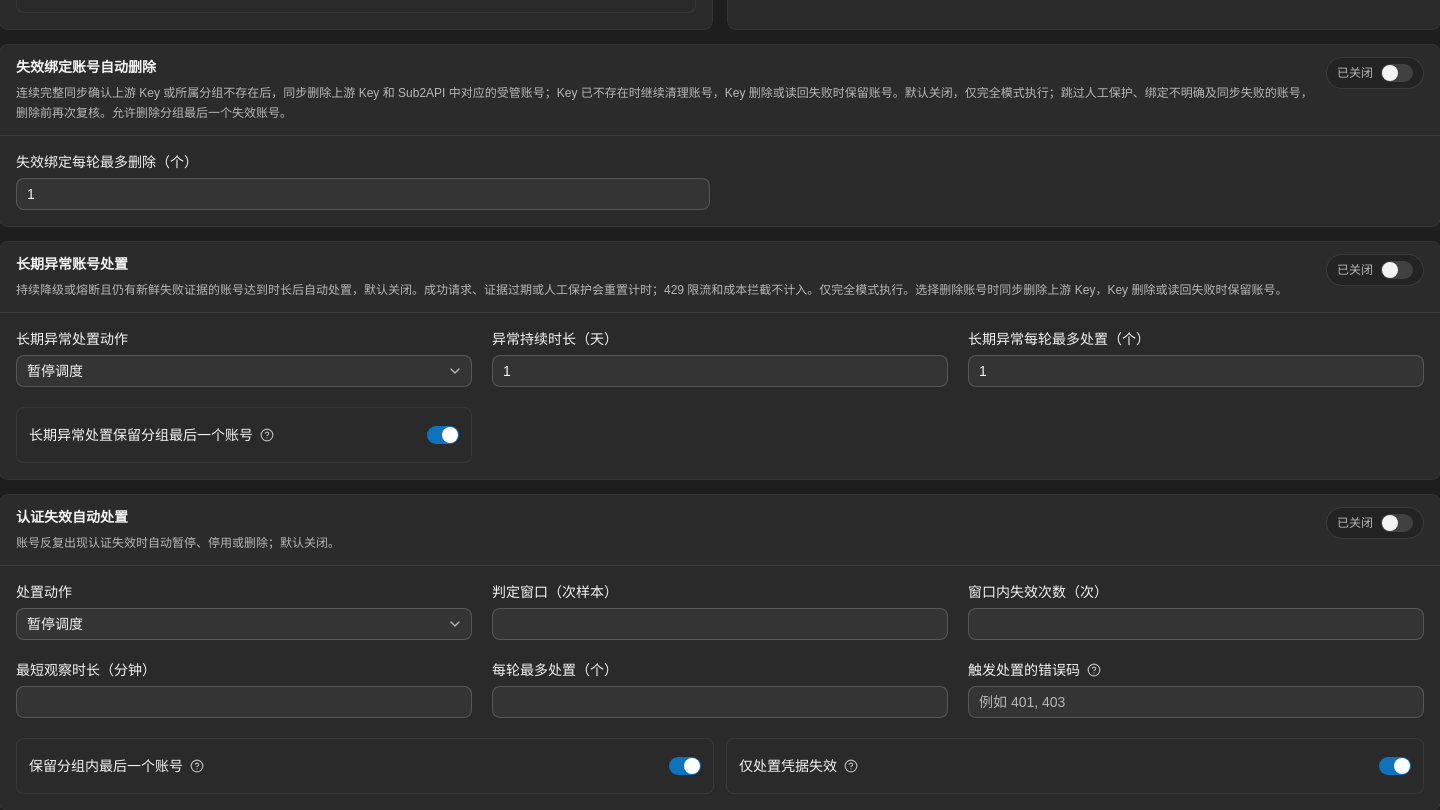
it: 认证失效处置动作 › 点击选择 disable 时回显 停用账号，并将协议值写入草稿
The width and height of the screenshot is (1440, 810).
(page scrolled)
Click the dropdown named "处置动作" at (55, 624), box [16, 608, 472, 640]
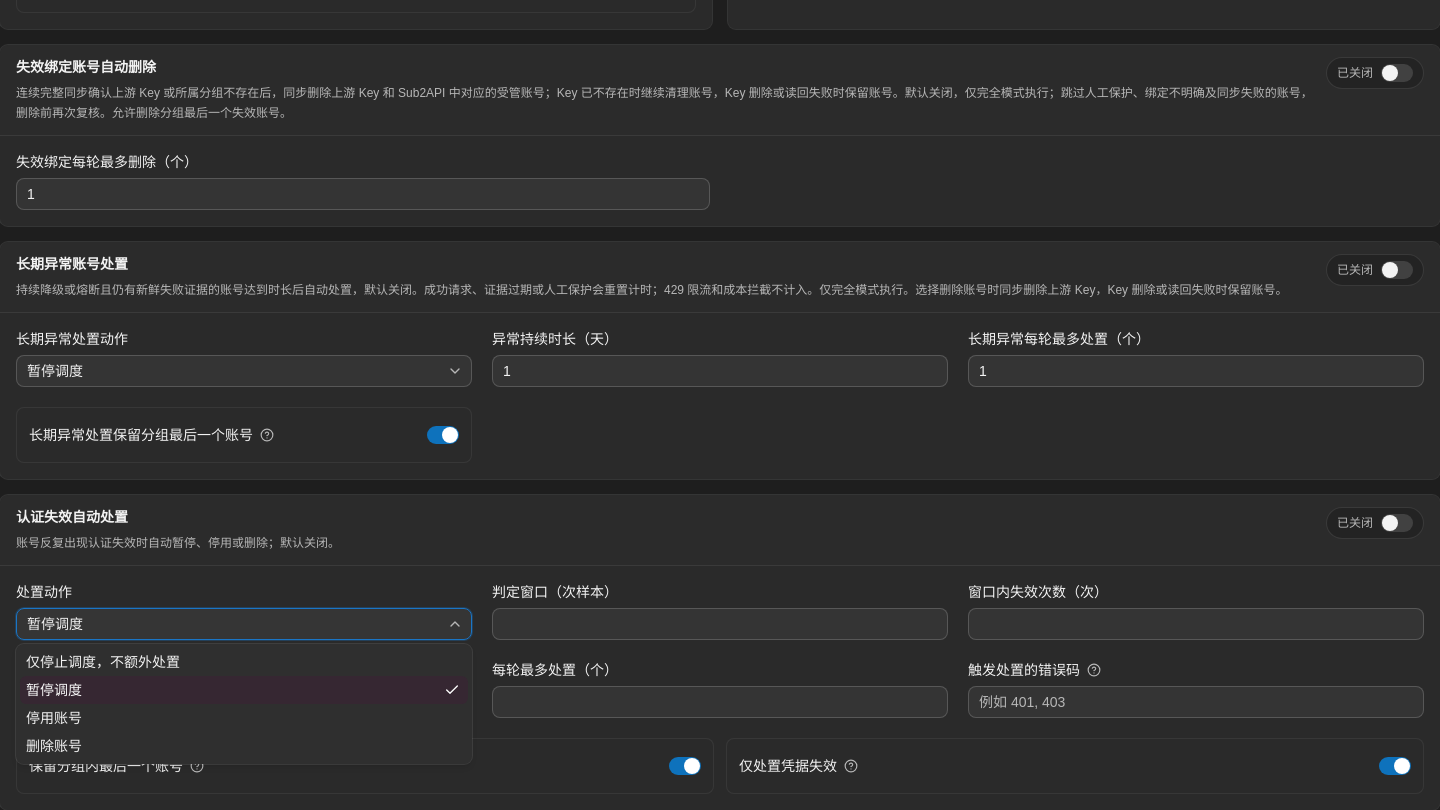
Check: the dropdown named "处置动作" is expanded, box [16, 608, 472, 640]
Click the option "停用账号" at (54, 718), box [26, 710, 82, 726]
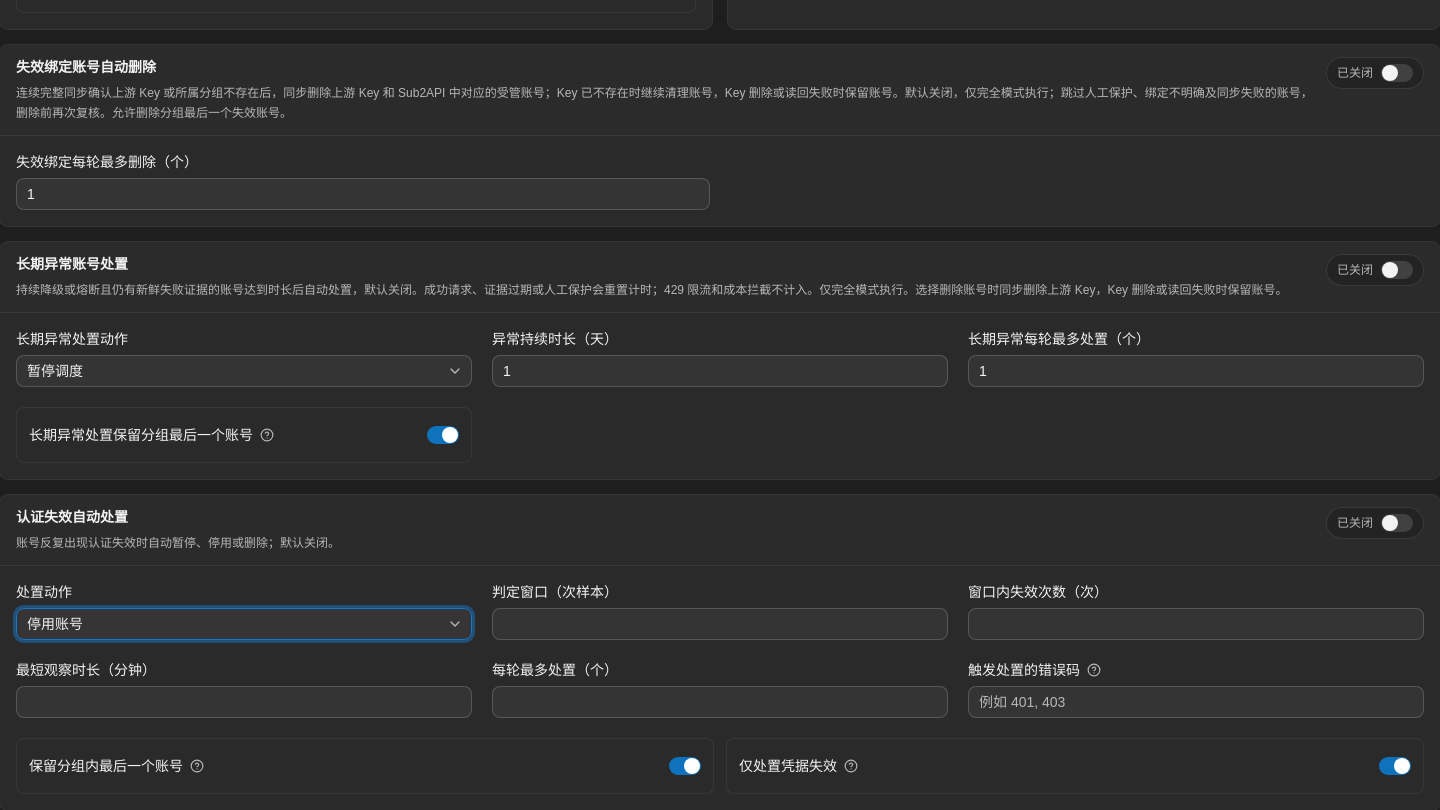
Check: the dropdown named "处置动作" shows "停用账号", box [16, 608, 472, 640]
Check: the dropdown named "处置动作" is collapsed, box [16, 608, 472, 640]
